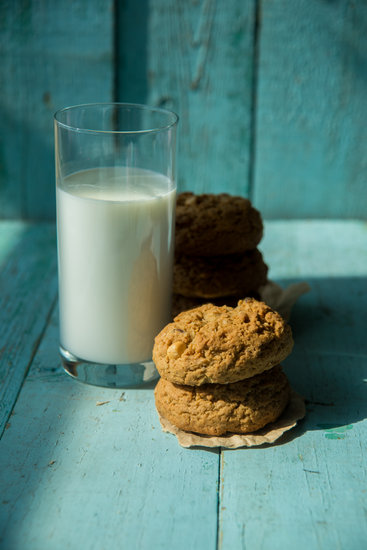glass of milk: (51, 105, 176, 386)
